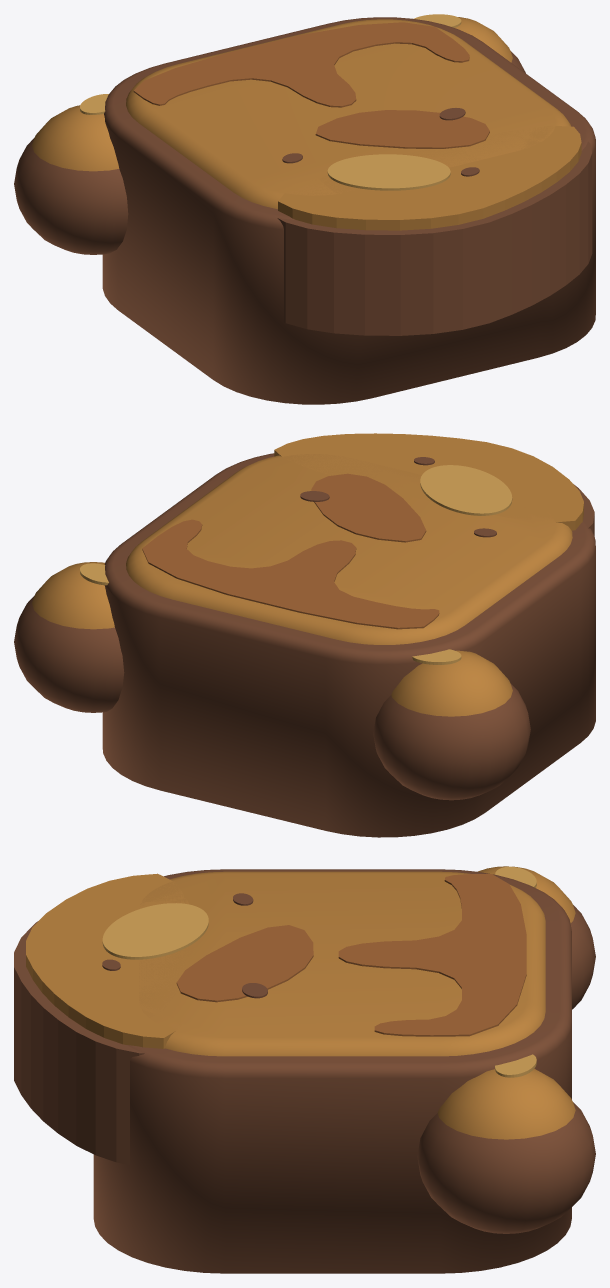
File: body_batata.fbx
The picture shows the model from 3 angles, top to bottom: view 1: azimuth 30°, elevation 25°; view 2: azimuth 150°, elevation 25°; view 3: azimuth 270°, elevation 25°; orthographic projection. The views are drawn at different scales.
Parts seen in each view (by area): view 1: body_batata_corpo, body_batata_mao_esq, body_batata_mao; view 2: body_batata_corpo, body_batata_mao_esq, body_batata_mao; view 3: body_batata_corpo, body_batata_mao, body_batata_mao_esq.
Part boxes in pixels (x1,y1,x2,y2): body_batata_corpo: (102,17,595,404); body_batata_mao_esq: (14,94,128,254); body_batata_mao: (414,14,525,73); body_batata_corpo: (102,433,595,837); body_batata_mao_esq: (373,649,530,800); body_batata_mao: (14,562,124,712); body_batata_corpo: (14,869,571,1273); body_batata_mao: (417,1054,595,1233); body_batata_mao_esq: (478,866,595,1009).
Bounding box in the file's own units: 5.4 × 2.04 × 4.86.
Materials: 1 (1 with a texture image).
